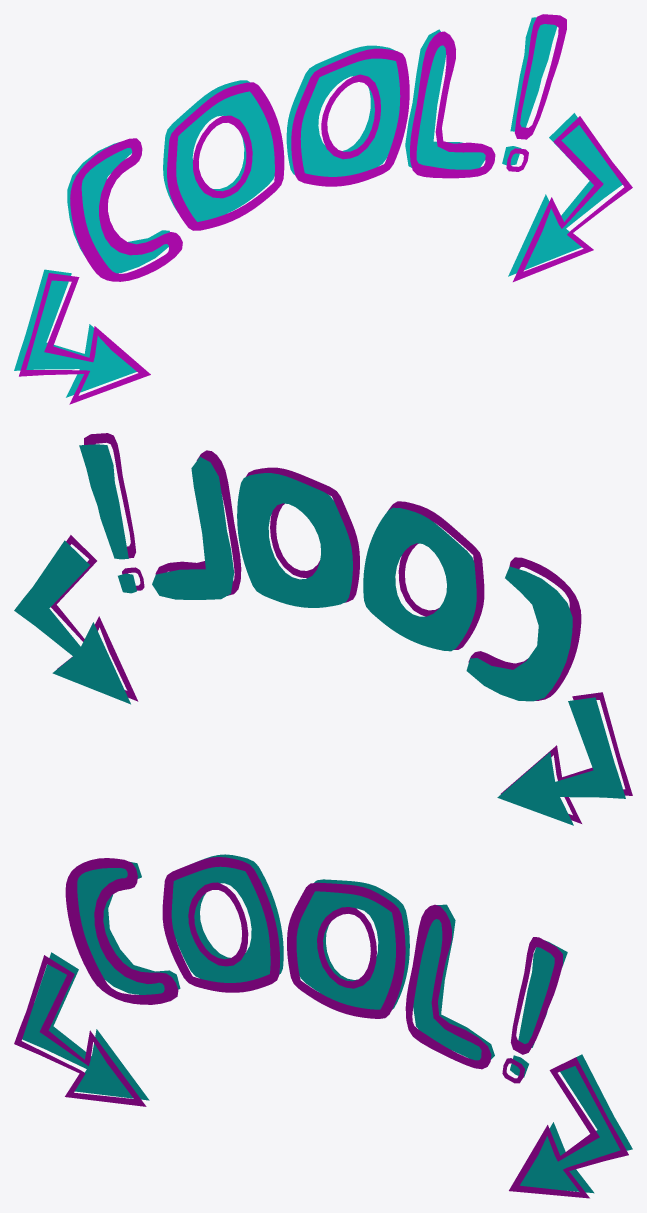
File: mesh_text_cool.fbx
The picture shows the model from 3 angles, top to bottom: view 1: azimuth 30°, elevation 25°; view 2: azimuth 150°, elevation 25°; view 3: azimuth 330°, elevation 25°; orthographic projection.
Visible parts, largest first — view 1: mesh_text_cool, mesh_text_cool1, mesh_text_cool2, mesh_text_cool4, mesh_text_cool3, mesh_text_cool5; view 2: mesh_text_cool, mesh_text_cool1, mesh_text_cool4, mesh_text_cool2, mesh_text_cool3, mesh_text_cool5; view 3: mesh_text_cool, mesh_text_cool1, mesh_text_cool4, mesh_text_cool2, mesh_text_cool5, mesh_text_cool3.
Boxes of the visible parts, x1,y1,x2,y2 form: mesh_text_cool: [67, 17, 556, 273]; mesh_text_cool1: [70, 14, 566, 281]; mesh_text_cool2: [14, 269, 136, 397]; mesh_text_cool4: [508, 113, 622, 276]; mesh_text_cool3: [19, 273, 150, 404]; mesh_text_cool5: [513, 116, 632, 281]; mesh_text_cool: [79, 444, 572, 701]; mesh_text_cool1: [84, 433, 581, 700]; mesh_text_cool4: [14, 540, 130, 704]; mesh_text_cool2: [497, 697, 625, 825]; mesh_text_cool3: [500, 692, 632, 823]; mesh_text_cool5: [51, 535, 138, 701]; mesh_text_cool: [77, 854, 567, 1077]; mesh_text_cool1: [65, 857, 562, 1083]; mesh_text_cool4: [520, 1054, 632, 1193]; mesh_text_cool2: [22, 952, 149, 1100]; mesh_text_cool5: [509, 1057, 628, 1198]; mesh_text_cool3: [14, 955, 146, 1106].
Bounding box in the file's own units: 0.129 × 0.0567 × 0.00212.
